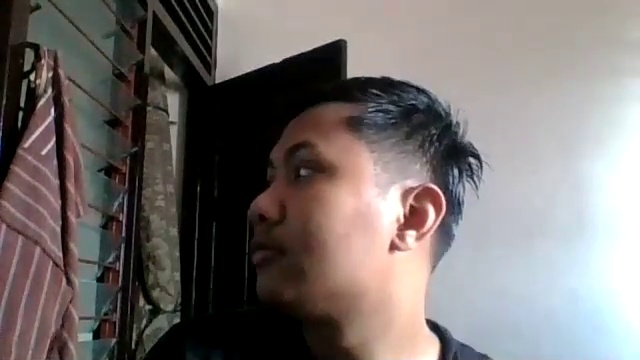Distracted: (243, 91, 468, 316)
